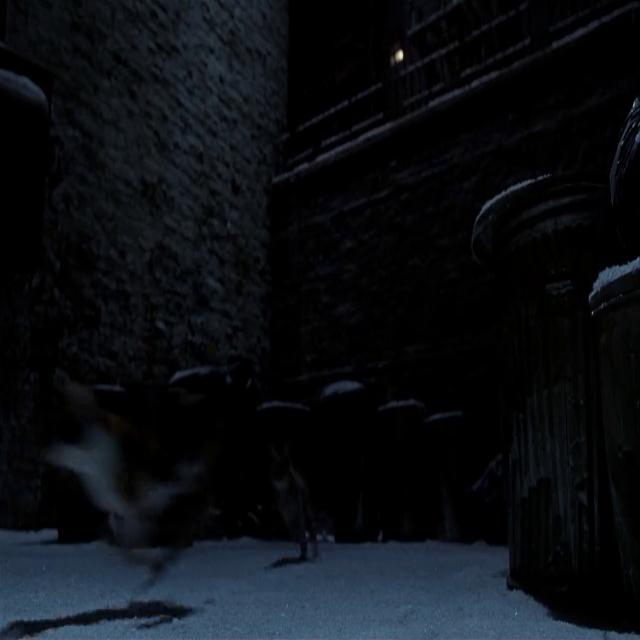Cat: (50, 345, 240, 585), (264, 422, 327, 563)
